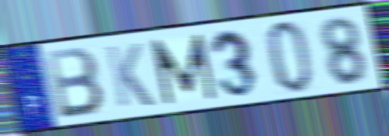0: (265, 18, 315, 95)
3: (209, 26, 266, 102)
8: (316, 14, 369, 87)
B: (43, 45, 107, 121)
K: (103, 41, 157, 110)
M: (148, 32, 219, 108)
